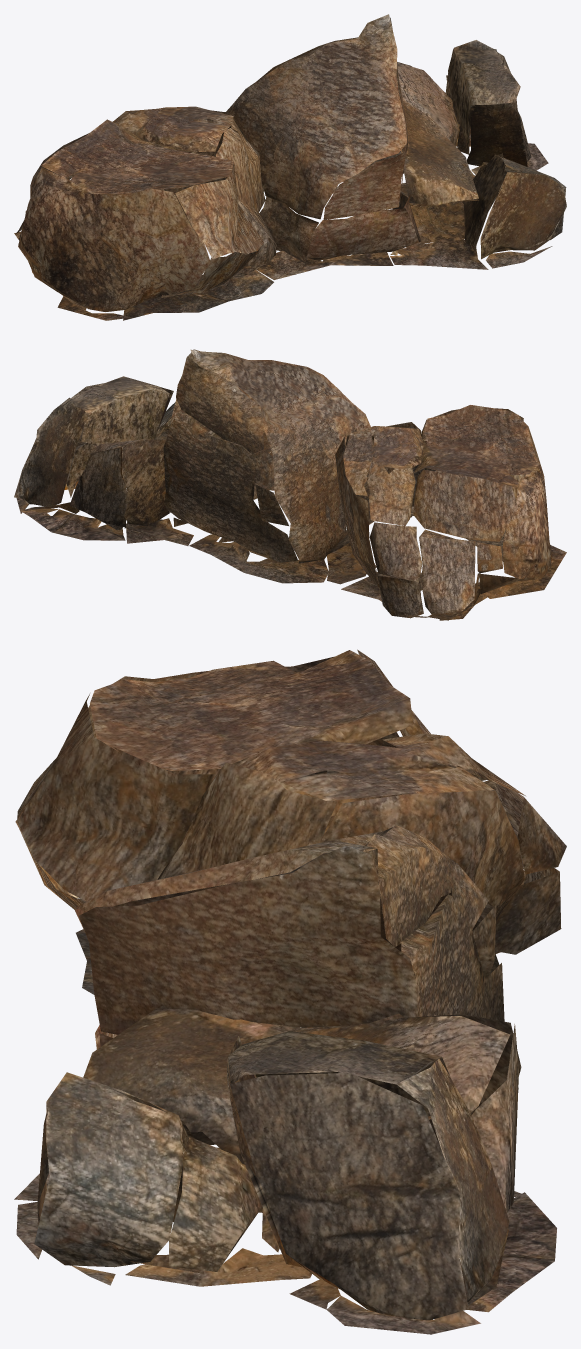
File: namaqualand_boulder_02.glb
The picture shows the model from 3 angles, top to bottom: view 1: azimuth 30°, elevation 25°; view 2: azimuth 150°, elevation 25°; view 3: azimuth 270°, elevation 25°; orthographic projection. The views are drawn at different scales.
Parts seen in each view (by area): view 1: boulder_02; view 2: boulder_02; view 3: boulder_02.
Boxes of the visible parts, x1,y1,x2,y2 form: boulder_02: (14, 14, 566, 320); boulder_02: (14, 349, 566, 620); boulder_02: (14, 649, 566, 1334).
Bounding box in the file's own units: 2.52 × 0.8722 × 1.22.
Materials: 1 (1 with a texture image).
